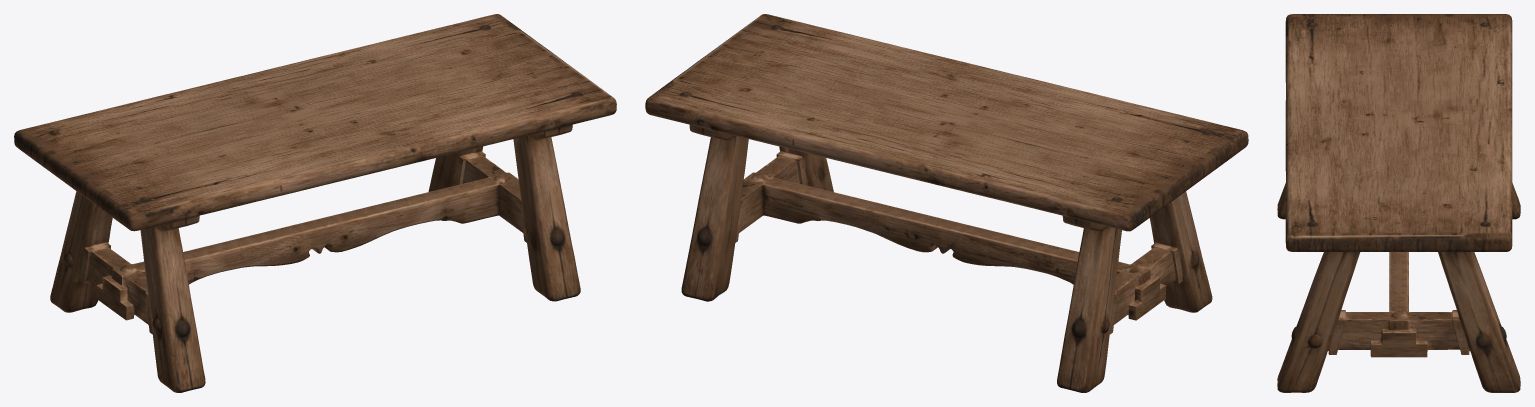
Rendered from TrestleTable.glb.
3 views of the same model, side by side, from view 1: azimuth 30°, elevation 25°; view 2: azimuth 150°, elevation 25°; view 3: azimuth 270°, elevation 25° (orthographic). The views are drawn at different scales.
Parts seen in each view (by area): view 1: TrestleTable; view 2: TrestleTable; view 3: TrestleTable.
Part boxes in pixels (x1,y1,x2,y2): TrestleTable: [14, 14, 616, 392]; TrestleTable: [645, 14, 1248, 392]; TrestleTable: [1277, 14, 1520, 392].
Size of the model in its own units: 2.55 by 0.9363 by 1.16.
1 material, 1 textured.
